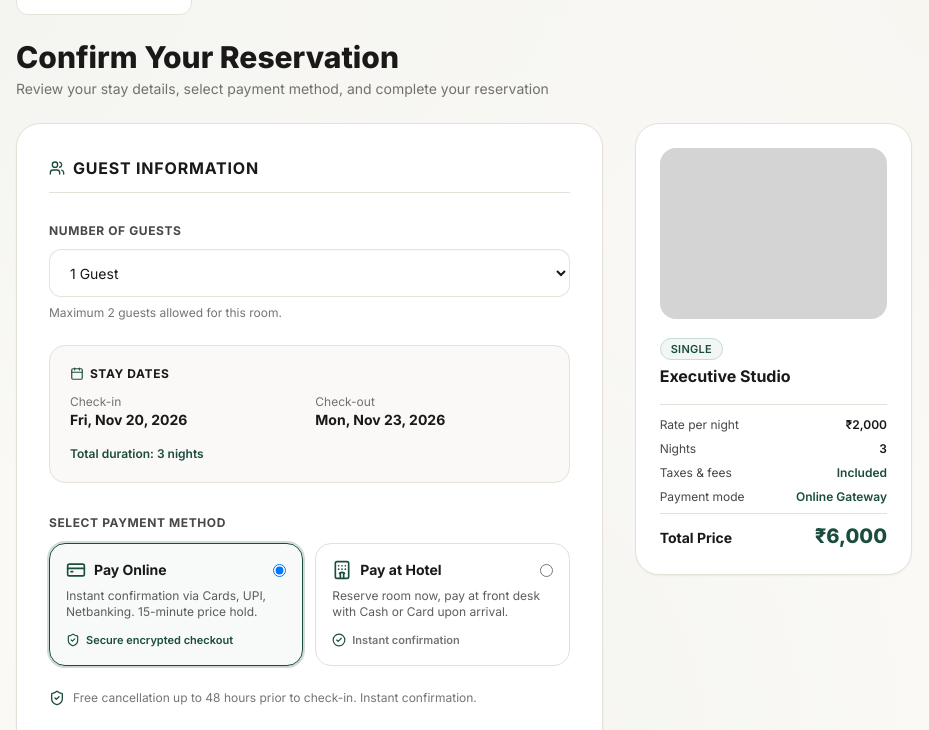
Test: BookingCreate Page › switches payment method when Pay at Hotel radio card is clicked
The image size is (929, 730).
Expected: the heading "Confirm Your Reservation" is shown, [16, 39, 399, 75]
What coordinates should you click on to do the following:
click the radio button labelled "Pay at Hotel"
I would click on:
 (546, 570)
Its box is [540, 564, 553, 576].
(page scrolled)
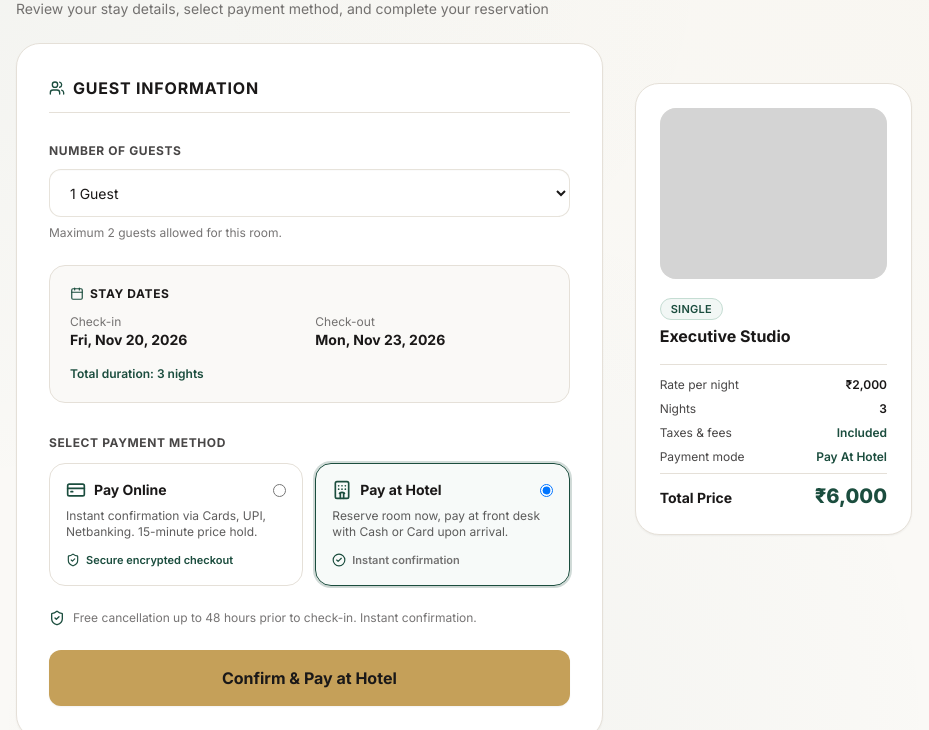
Now the radio button labelled "Pay at Hotel" is checked, box [540, 484, 553, 496]
Now the button "Confirm & Pay at Hotel" is shown, box [49, 650, 570, 706]
